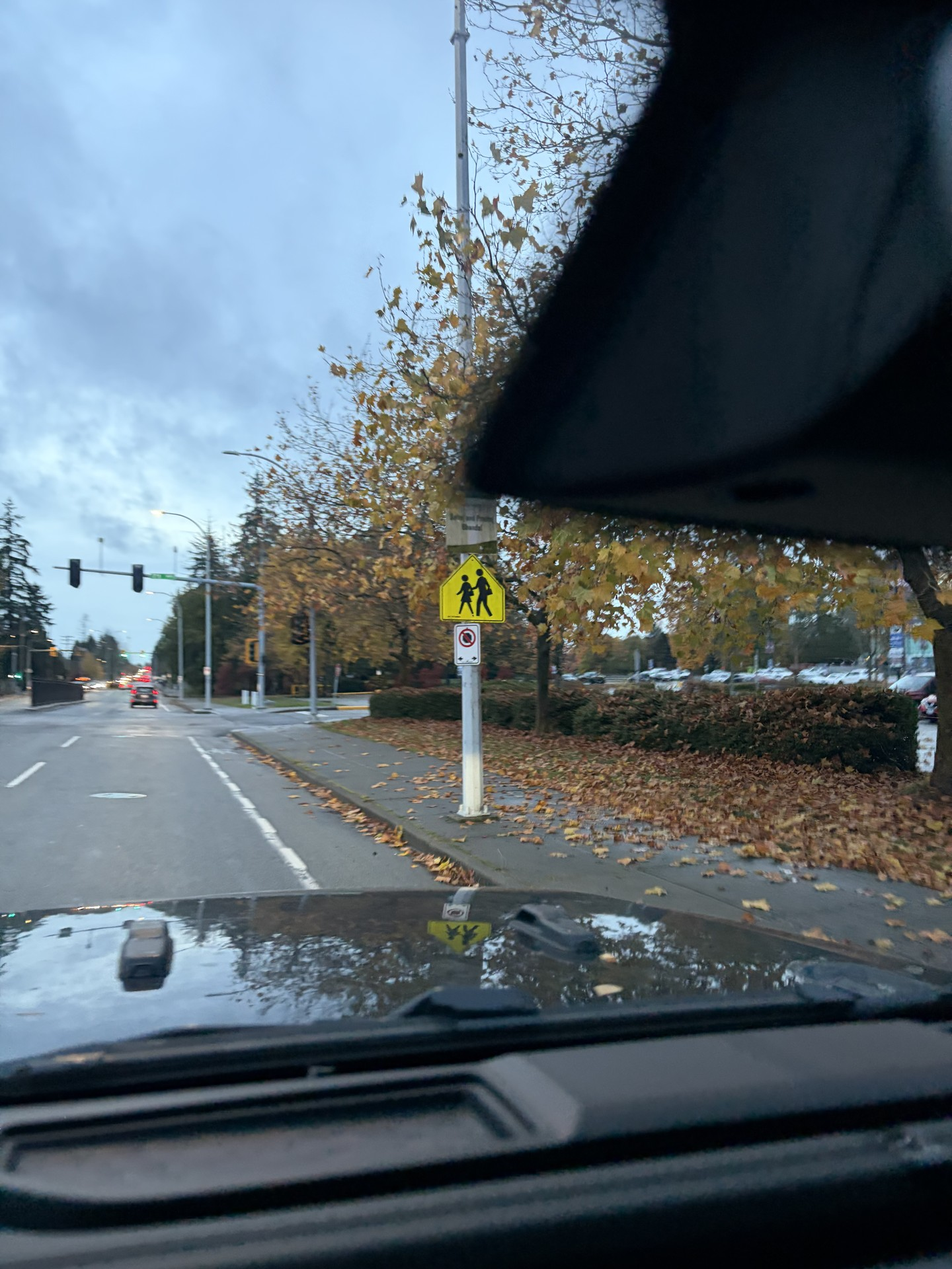school_zone: (433, 533, 527, 636)
